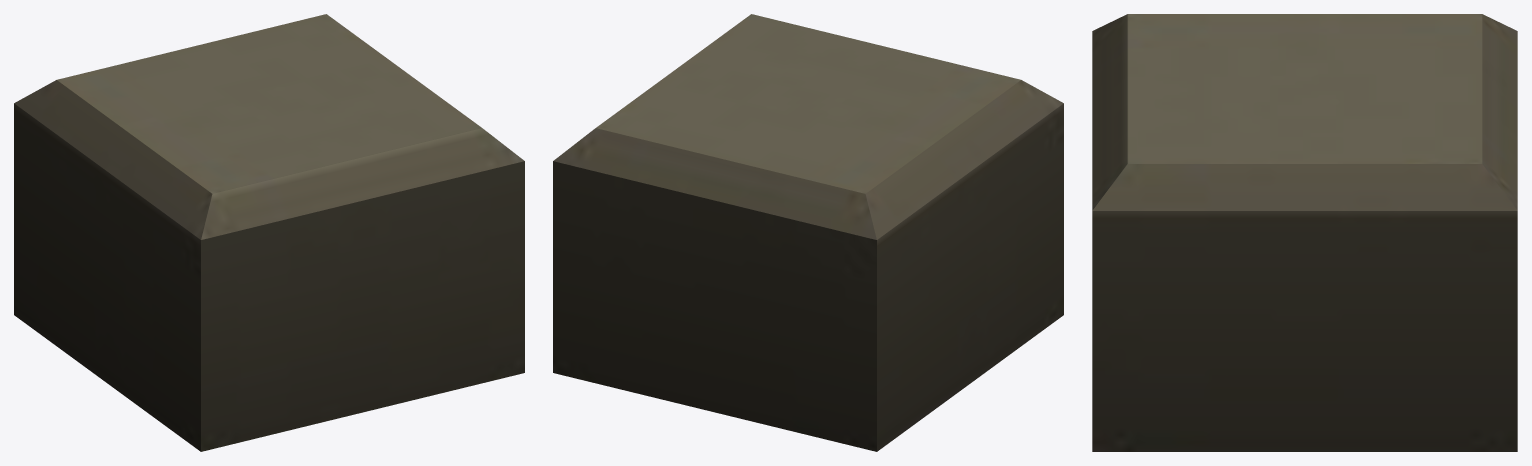
The model's file is steel-furnace.glb.
3 renders of one model, left to right at view 1: azimuth 30°, elevation 25°; view 2: azimuth 150°, elevation 25°; view 3: azimuth 270°, elevation 25°, orthographic. The views are drawn at different scales.
Visible parts, largest first — view 1: steel-furnace; view 2: steel-furnace; view 3: steel-furnace.
Part boxes in pixels (x1,y1,x2,y2): steel-furnace: [14, 14, 524, 451]; steel-furnace: [553, 14, 1063, 451]; steel-furnace: [1092, 14, 1517, 451].
Bounding box in the file's own units: 0.24 × 0.17 × 0.24.
Materials: 1 (1 with a texture image).
